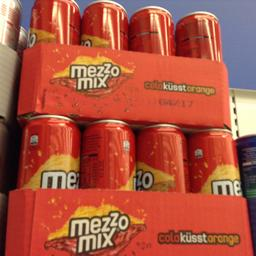soda: (15, 114, 79, 188), (76, 116, 134, 188), (132, 122, 188, 190), (186, 126, 240, 193), (127, 4, 176, 54), (175, 10, 222, 60), (81, 0, 128, 49), (28, 0, 78, 42)
